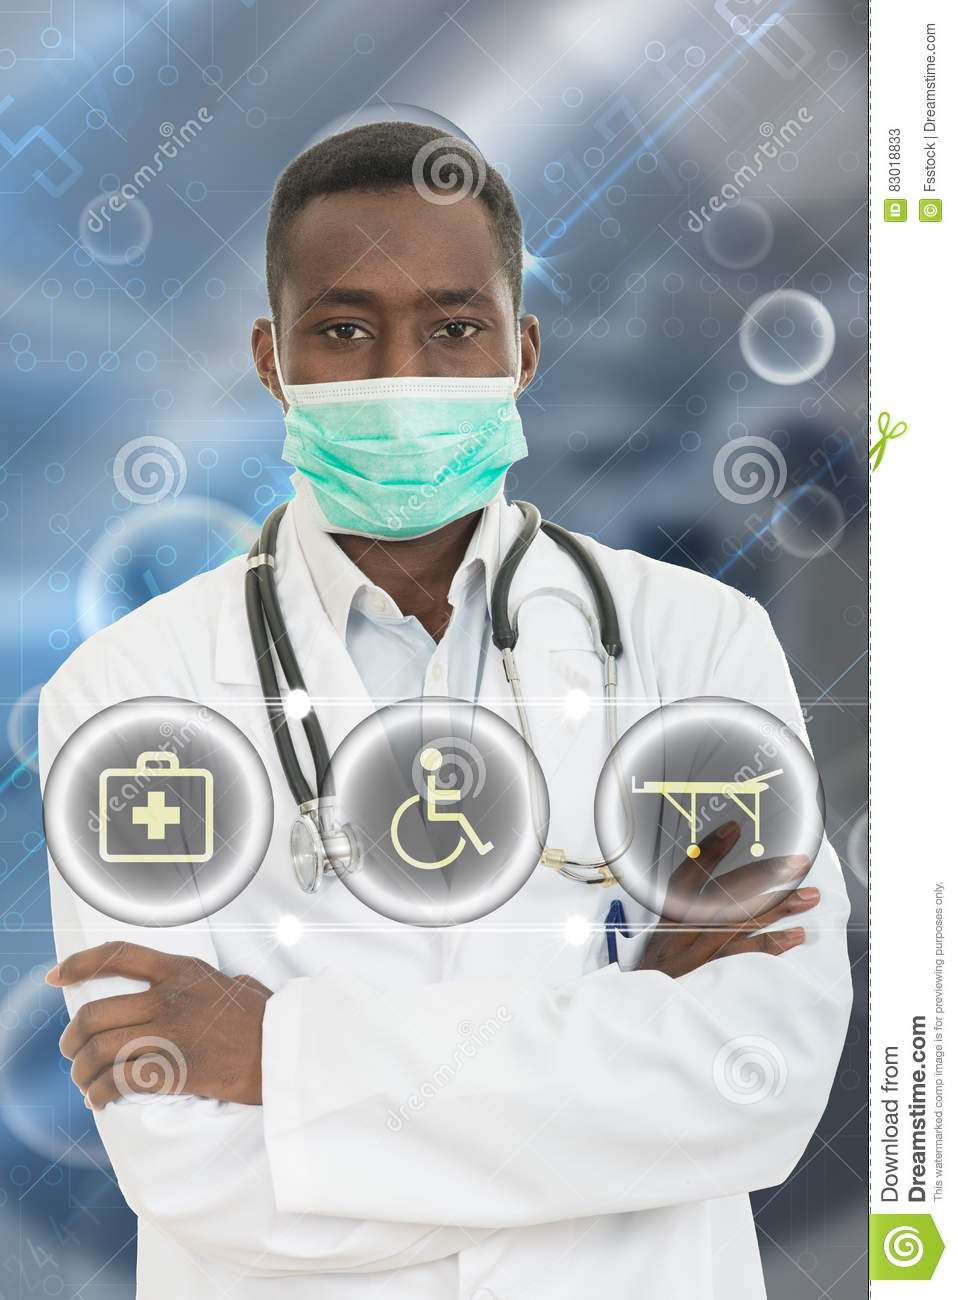mask: (284, 372, 521, 537)
